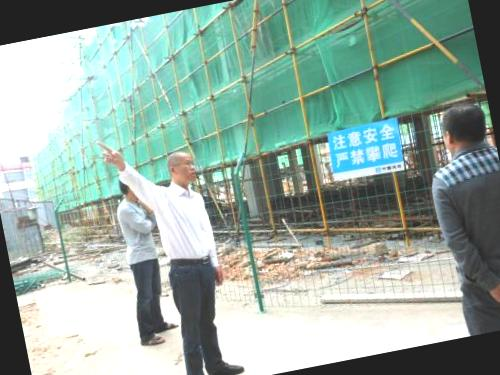no_helmet: (436, 97, 495, 165), (162, 146, 201, 189)
